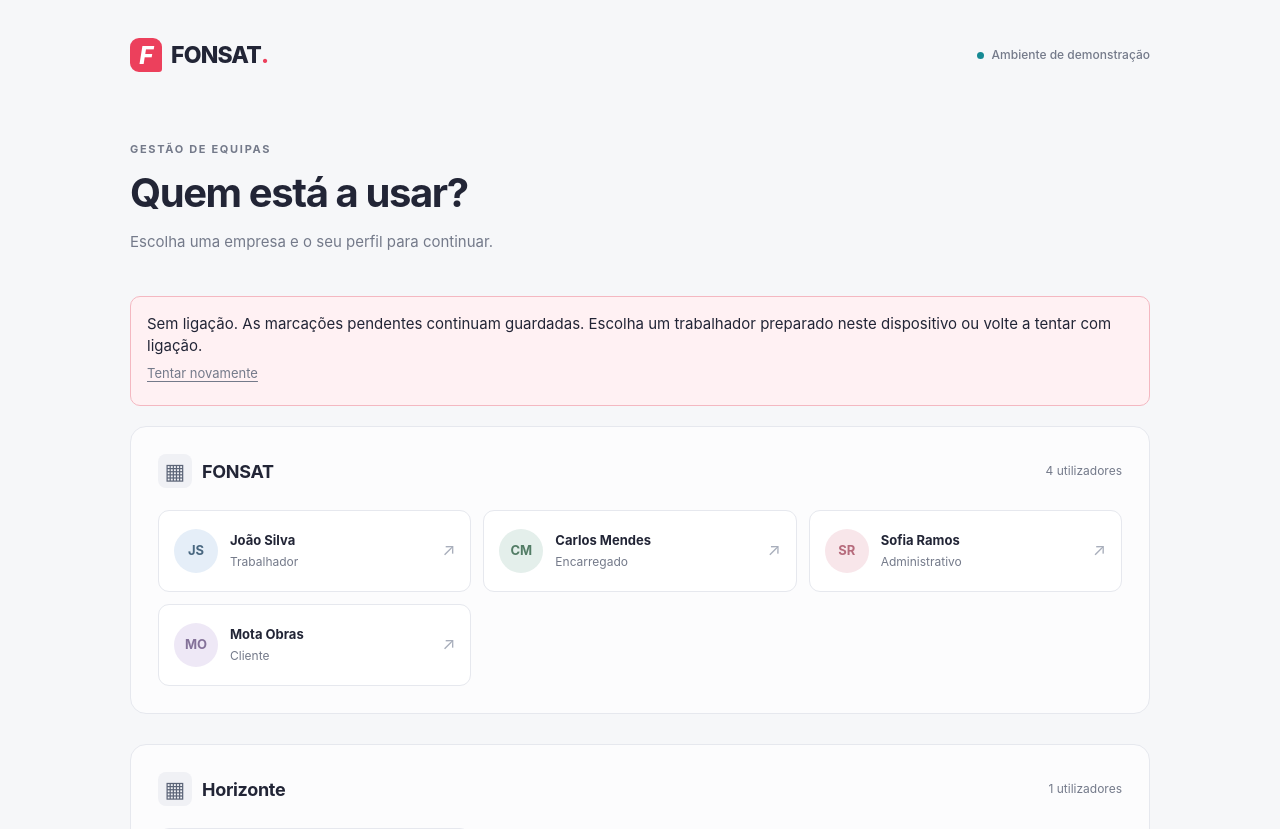
Test: recupera de uma falha ao abrir o ambiente sem apagar a seleção
expect the message shows "Sem ligação.": met, box x1=147 y1=314 x2=1111 y2=355
Click the button "Tentar novamente" at (202, 373), box x1=147 y1=358 x2=258 y2=389
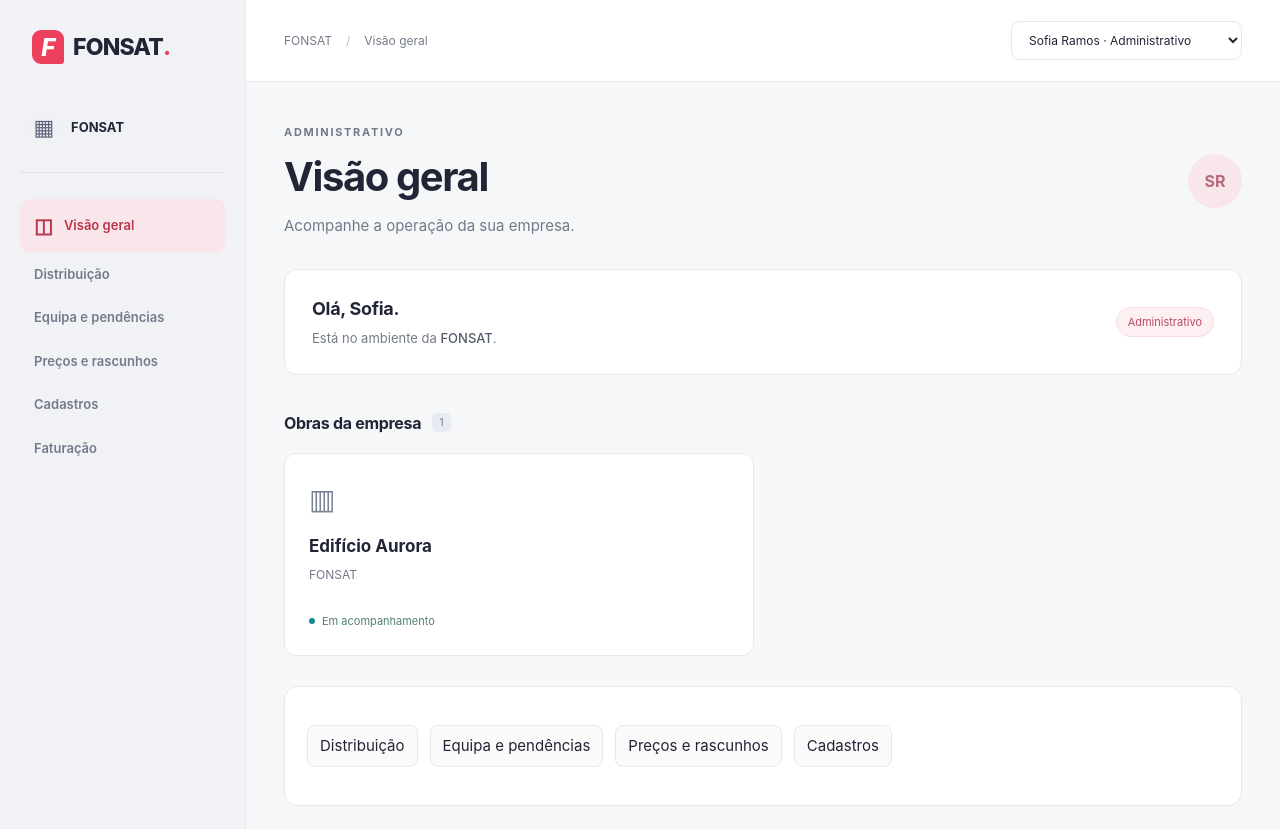
expect the heading "Visão geral" is shown: met, box x1=284 y1=152 x2=488 y2=200
